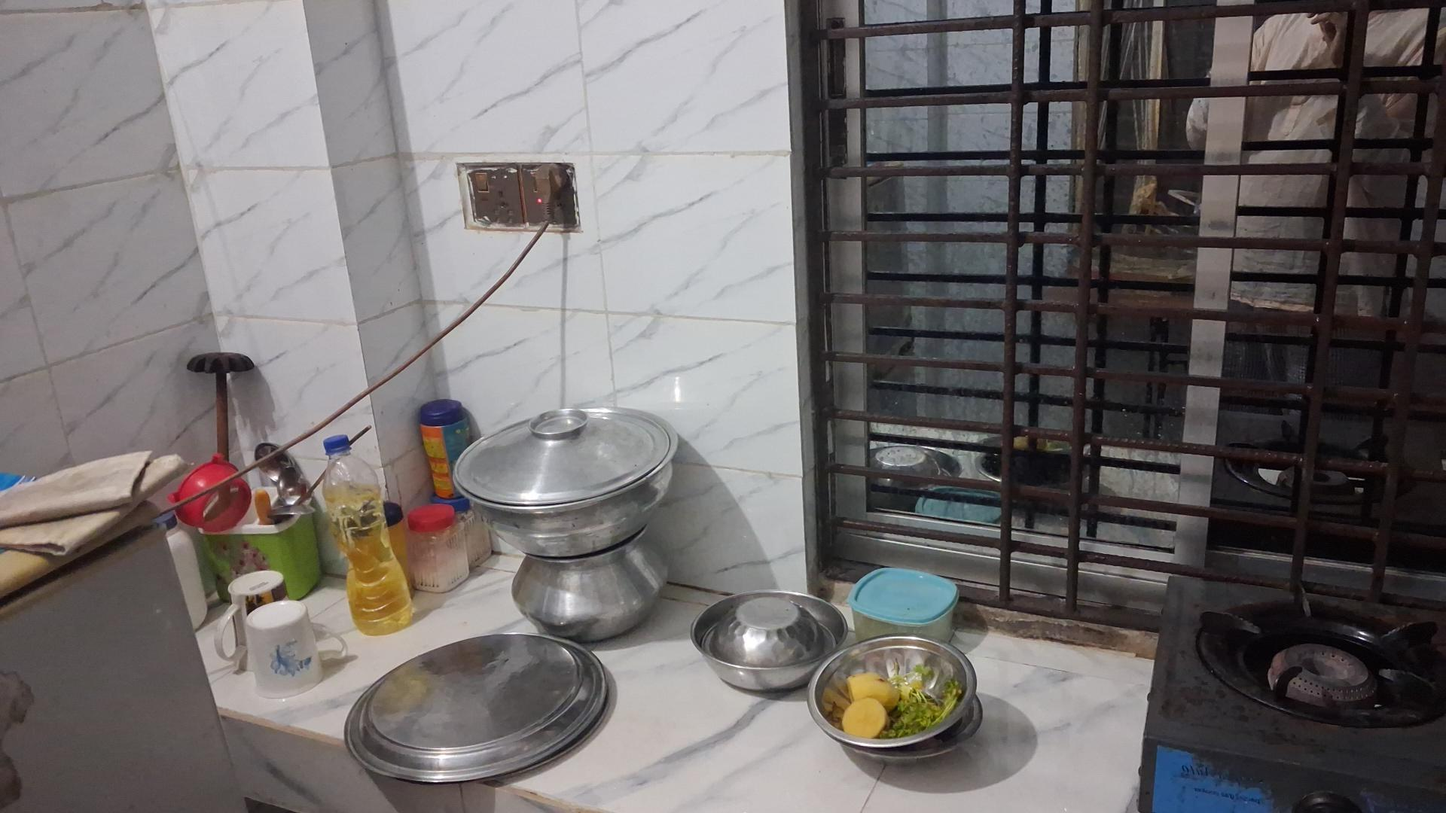Bottle: (319, 436, 416, 638)
Bowl: (813, 637, 974, 750), (690, 589, 841, 694)
Cup: (241, 597, 350, 696)
Food: (841, 664, 951, 738)
Jar: (852, 563, 955, 643), (406, 505, 473, 589), (420, 407, 472, 497)
Plate: (343, 622, 614, 797)
Pot: (457, 409, 672, 558), (512, 542, 664, 643)
